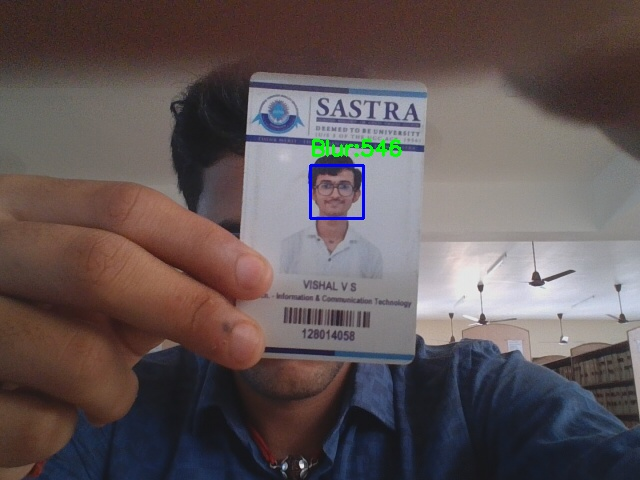fake: (310, 165, 363, 218)
